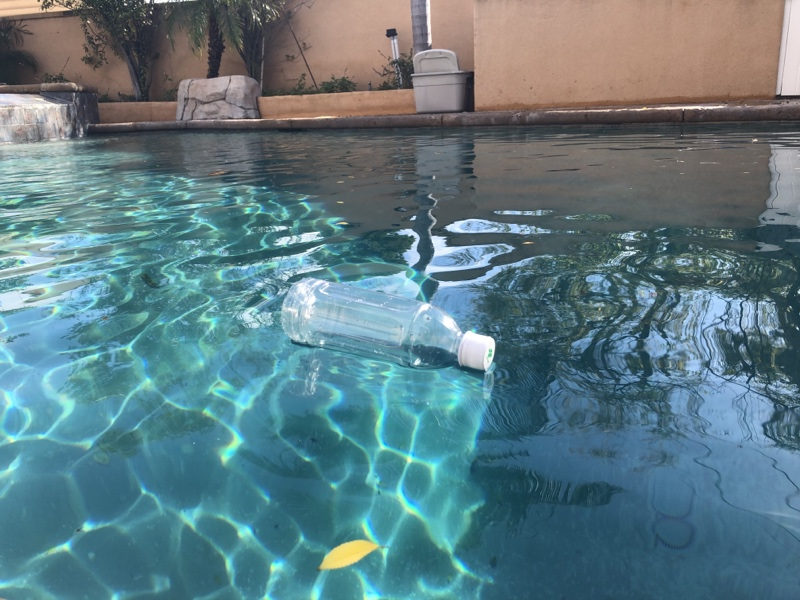Plastic Bottle: (278, 277, 498, 374)
